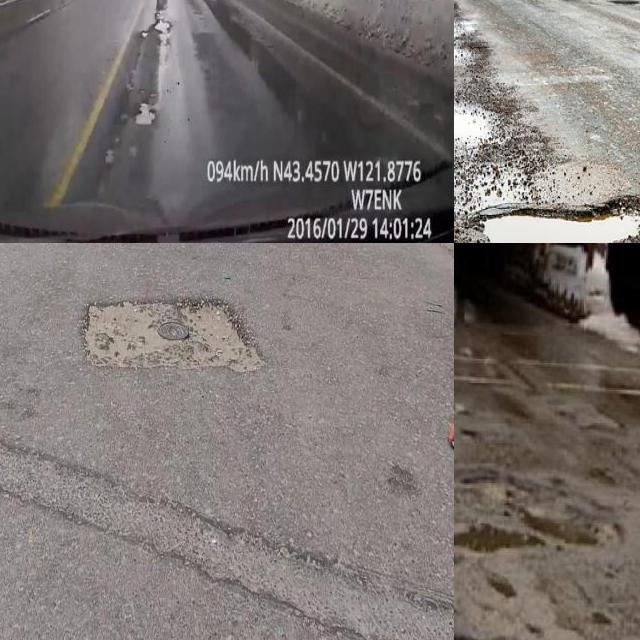Pothole: (84, 299, 252, 373), (499, 216, 640, 243), (454, 523, 544, 551), (523, 510, 597, 544), (583, 463, 631, 492), (132, 101, 160, 131), (153, 11, 173, 37), (454, 397, 474, 418), (104, 149, 115, 165), (156, 0, 168, 11), (140, 29, 150, 39), (119, 112, 129, 122), (129, 146, 138, 157), (149, 94, 158, 98)
